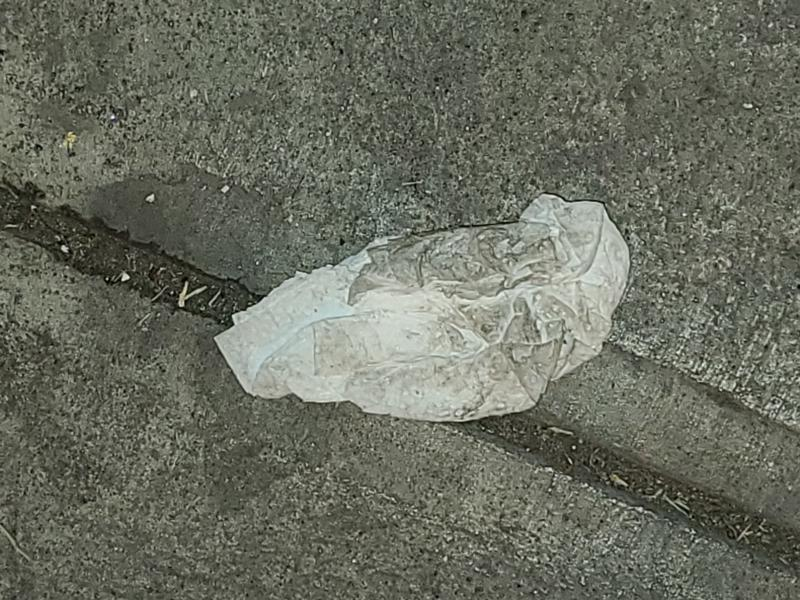papel: (212, 195, 631, 425)
